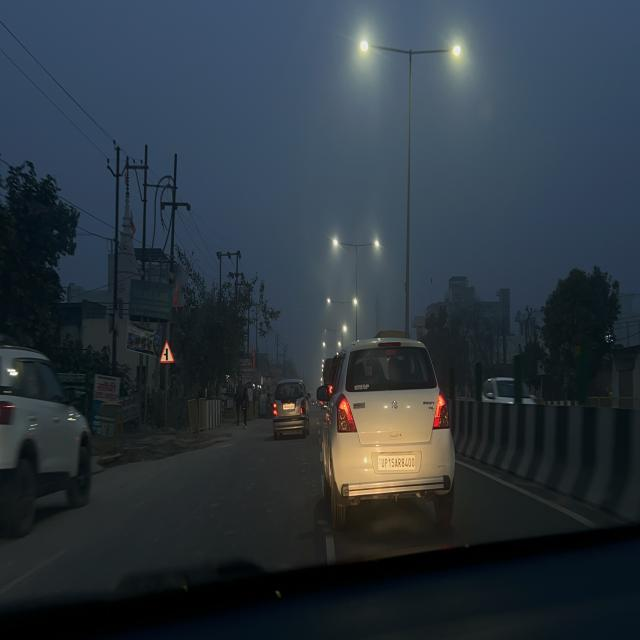SIDE_ROAD_LEFT: (159, 339, 175, 365)
